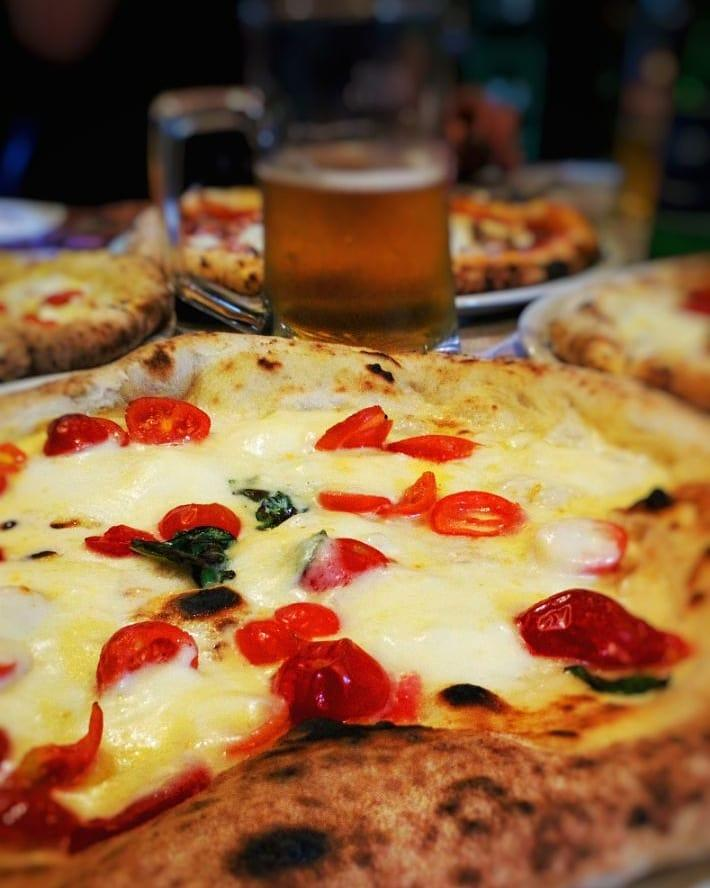Basil: (135, 529, 239, 584), (565, 671, 671, 699), (250, 481, 298, 528)
Pizza: (8, 342, 710, 888)
Tomatoes: (516, 588, 694, 671), (0, 703, 103, 823), (275, 643, 396, 727), (94, 615, 202, 694), (234, 603, 346, 668), (540, 509, 632, 575), (301, 533, 394, 597), (125, 395, 212, 448), (432, 490, 525, 539), (306, 403, 388, 454), (40, 413, 124, 458), (158, 501, 243, 539), (389, 431, 478, 466), (378, 471, 432, 523), (83, 523, 155, 557), (318, 483, 378, 517), (0, 441, 29, 493)
